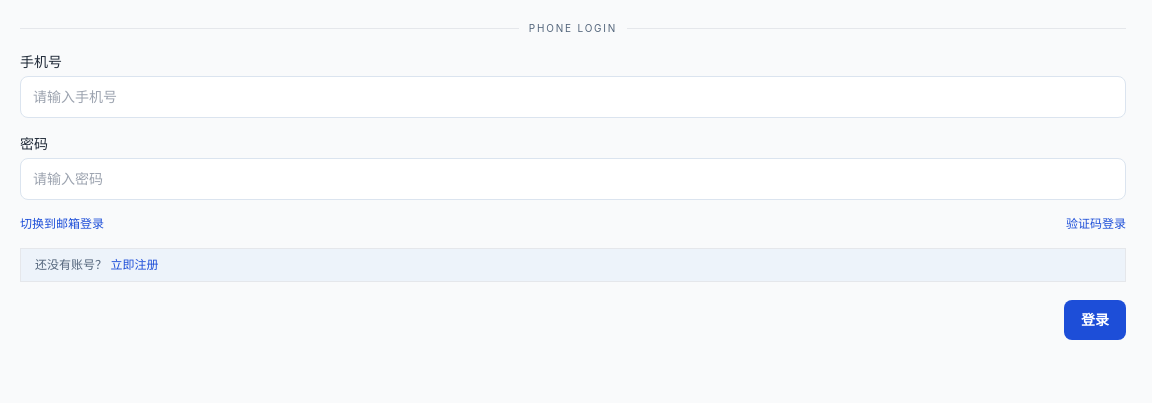
it: AuthLoginForm async lifecycle › clears a phone OTP session when the finish result is unknown (503)
Click the button "验证码登录" at (1096, 224), box [1066,216,1126,232]
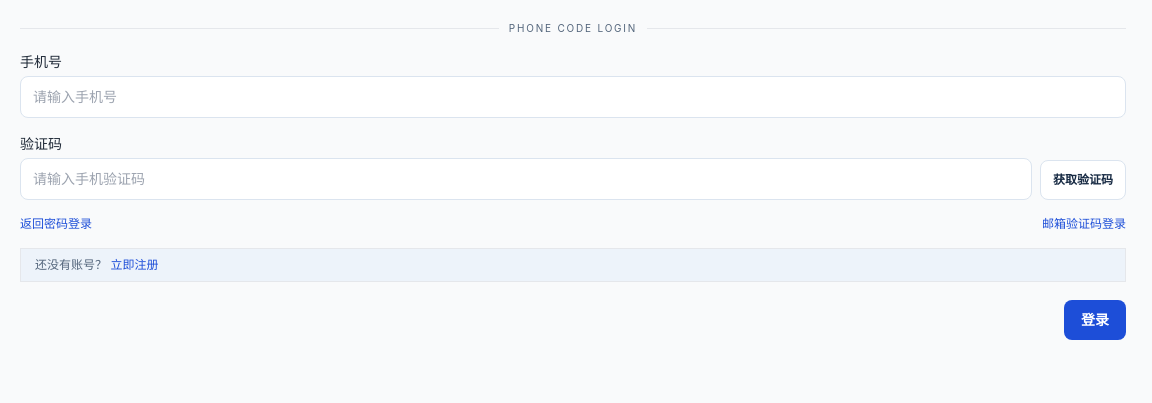
Type "13800000000" into the field with id "auth-login-phone-code" at (573, 97), box [20,76,1126,118]
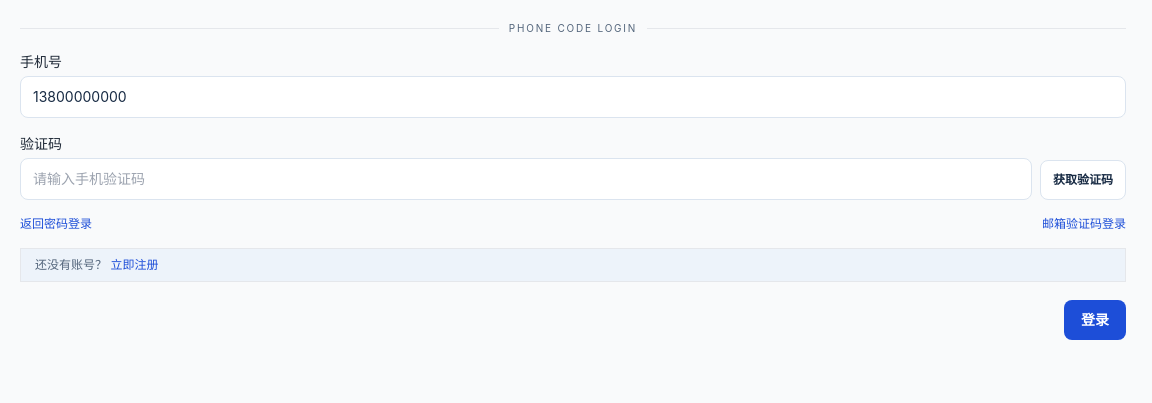
Click the button "获取验证码" at (1083, 180), box [1040,160,1126,200]
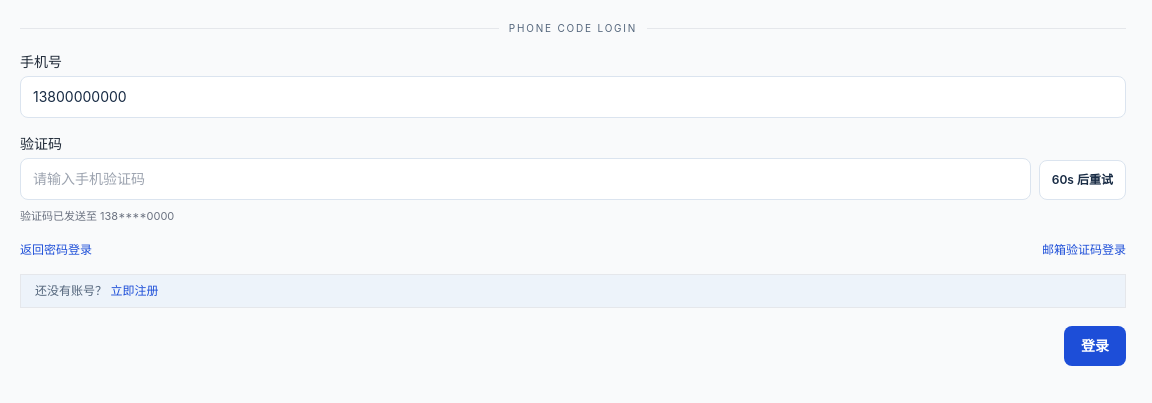
Result: the text "138****0000" is shown at [20,209,174,223]
Type "123456" into the field with id "auth-login-code" at (525, 179), box [20,158,1031,200]
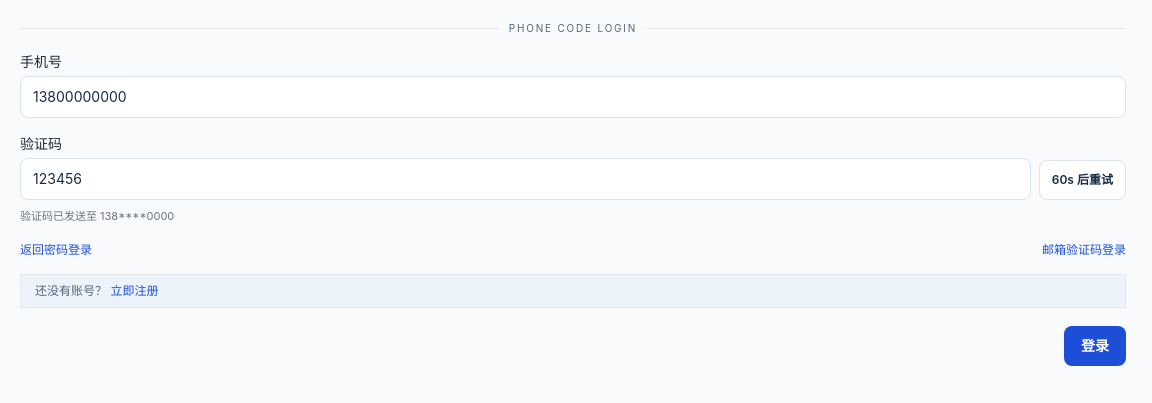
Submit the form
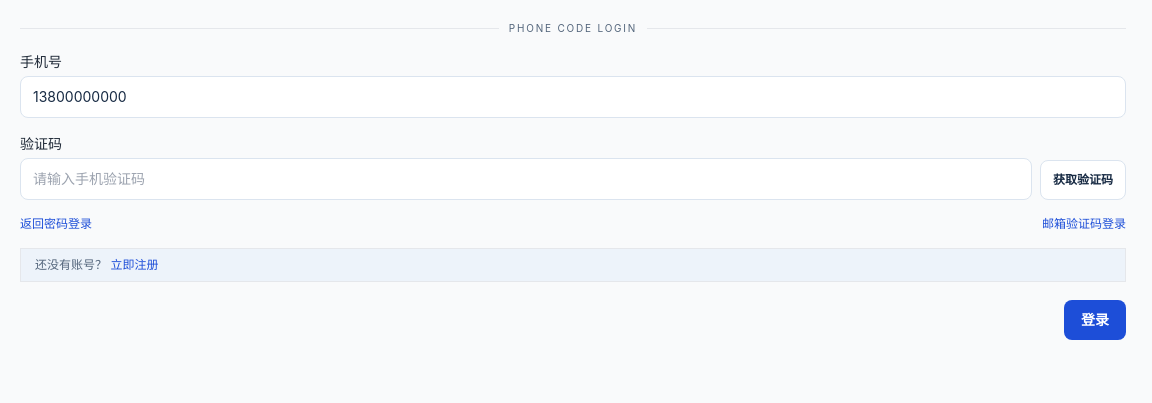
Result: the field with id "auth-login-code" is empty at [20,158,1032,200]
Result: the text "138****0000" is gone
